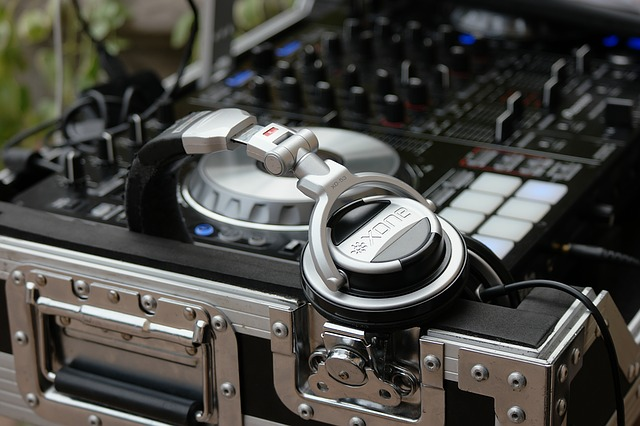headphones: (125, 109, 469, 332)
